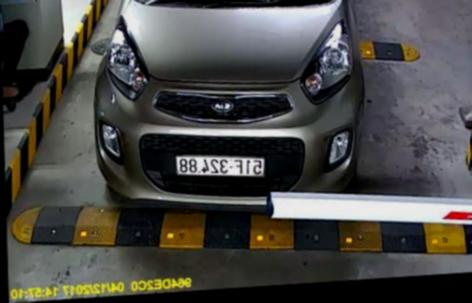License_Plate: (164, 150, 271, 184)
